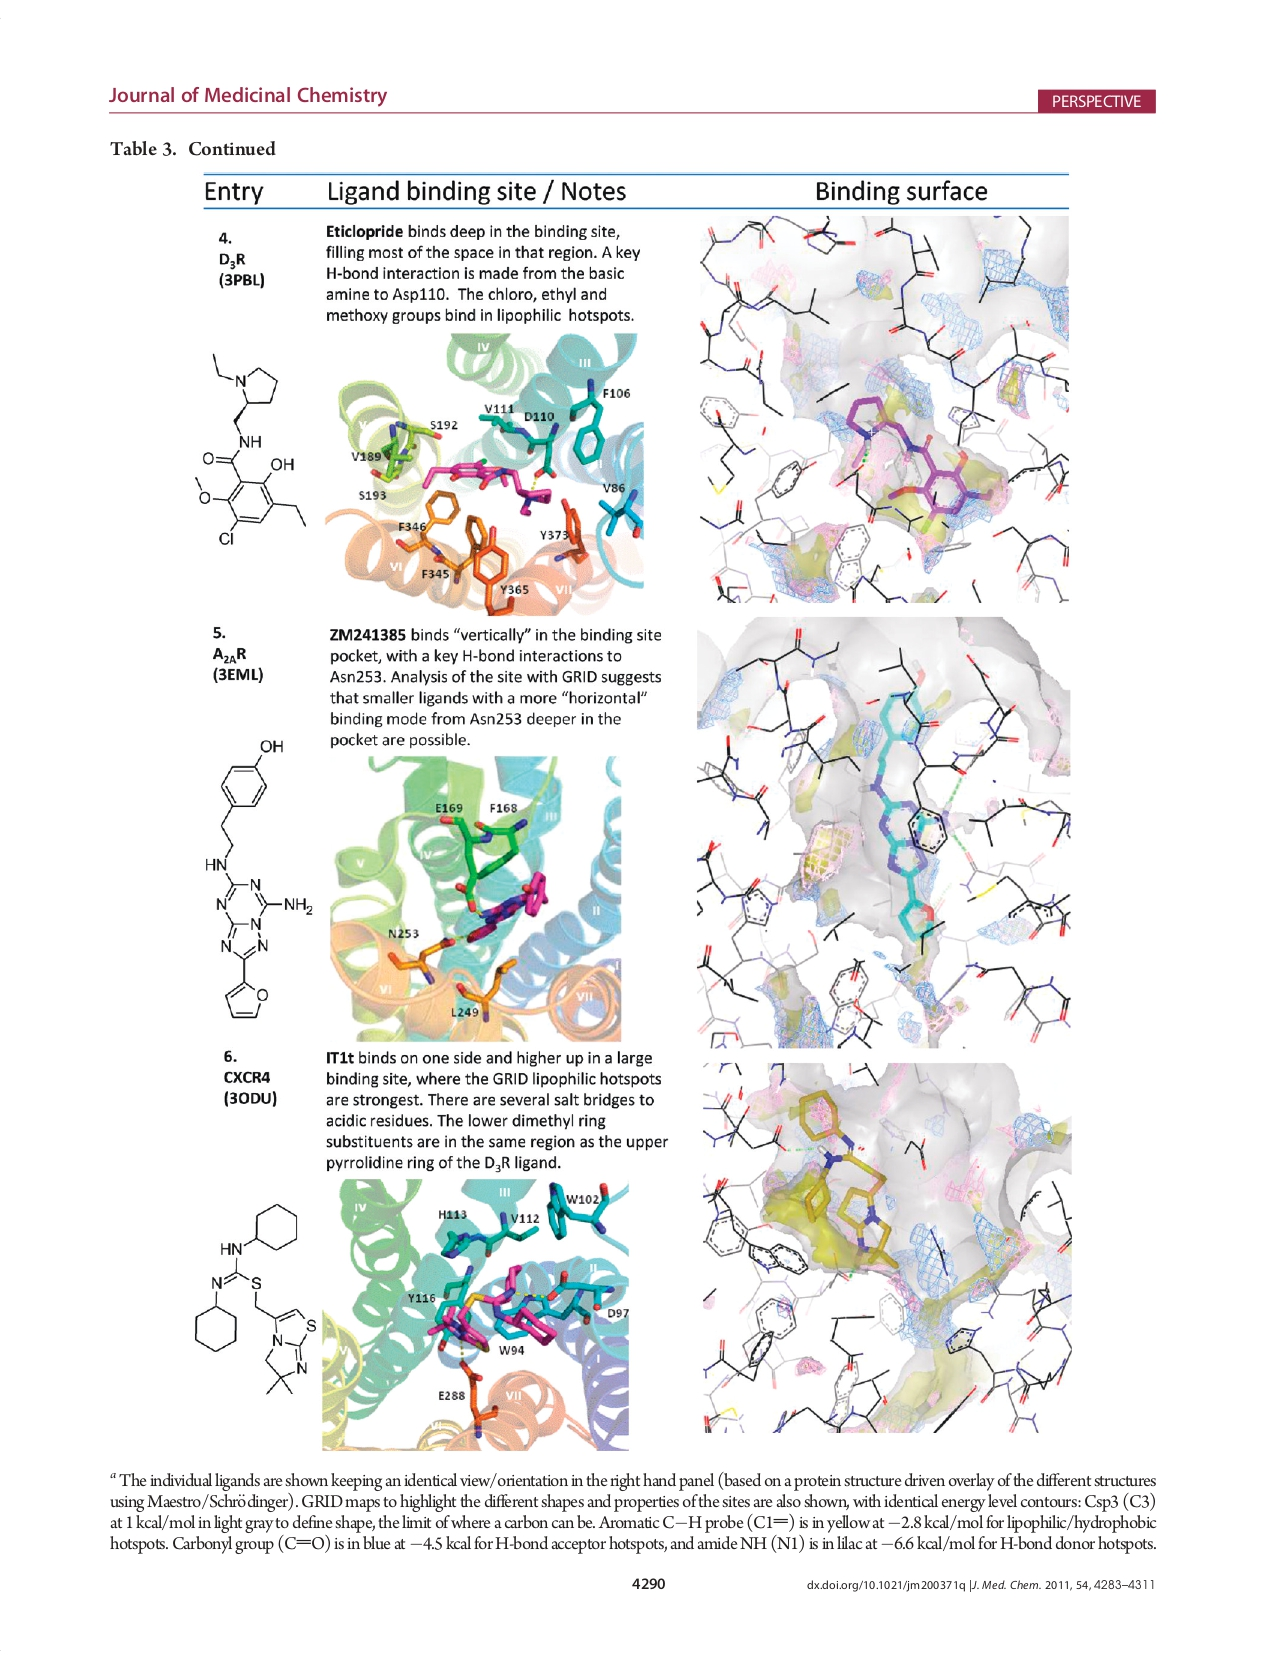exist_molecular: (202, 734, 313, 1020), (189, 1200, 320, 1399), (185, 350, 313, 551)
